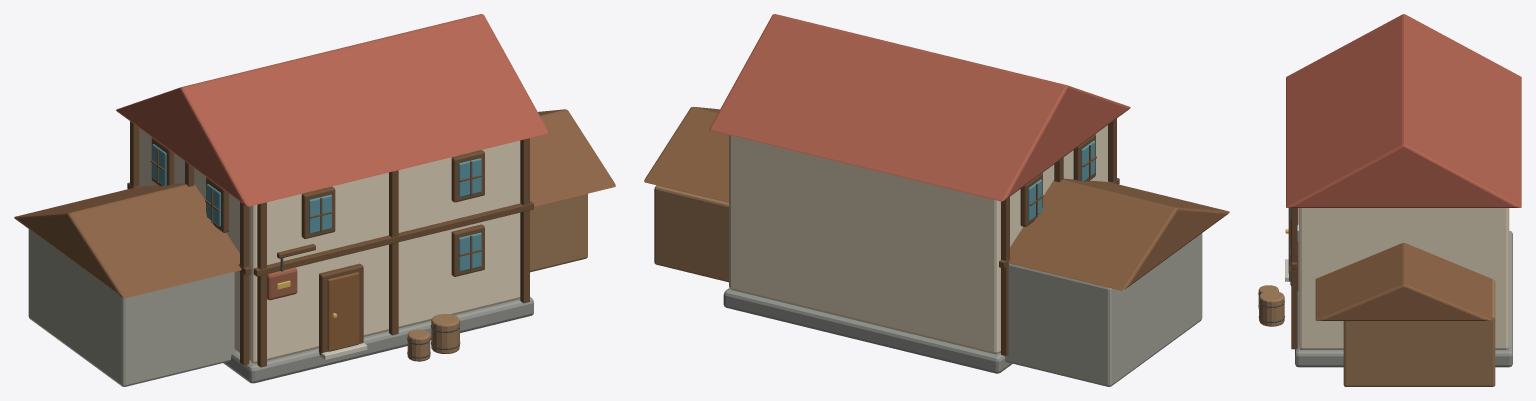
File: temperate-inn-1.glb
3 renders of one model, left to right at view 1: azimuth 30°, elevation 25°; view 2: azimuth 150°, elevation 25°; view 3: azimuth 270°, elevation 25°, orthographic. The views are drawn at different scales.
Visible parts, largest first — view 1: Clay tiles, Warm lime, Wood shingles, Fieldstone, Dark beams, Aged oak, Foundation stone, Blue glass, Door oak, Painted sign; view 2: Warm lime, Clay tiles, Wood shingles, Fieldstone, Aged oak, Foundation stone, Dark beams, Blue glass; view 3: Clay tiles, Warm lime, Aged oak, Wood shingles, Foundation stone, Dark beams.
Part boxes in pixels (x1,y1,x2,y2): Clay tiles: (116, 14, 548, 206); Warm lime: (139, 128, 520, 363); Wood shingles: (14, 109, 615, 298); Fieldstone: (28, 229, 235, 386); Dark beams: (127, 121, 533, 367); Aged oak: (407, 193, 587, 361); Foundation stone: (223, 297, 533, 383); Blue glass: (152, 144, 481, 271); Door oak: (327, 272, 359, 351); Painted sign: (266, 267, 297, 300); Warm lime: (729, 125, 1107, 354); Clay tiles: (709, 14, 1130, 201); Wood shingles: (644, 106, 1229, 290); Fieldstone: (1000, 233, 1202, 386); Aged oak: (654, 185, 728, 282); Foundation stone: (723, 288, 1012, 373); Dark beams: (999, 118, 1119, 355); Blue glass: (1028, 140, 1095, 220); Clay tiles: (1286, 14, 1521, 207); Warm lime: (1298, 208, 1509, 349); Aged oak: (1258, 279, 1495, 386); Wood shingles: (1315, 243, 1492, 320); Foundation stone: (1295, 231, 1512, 367); Dark beams: (1289, 208, 1298, 349).
Bounding box in the file's own units: 8.31 × 4.05 × 4.25.
